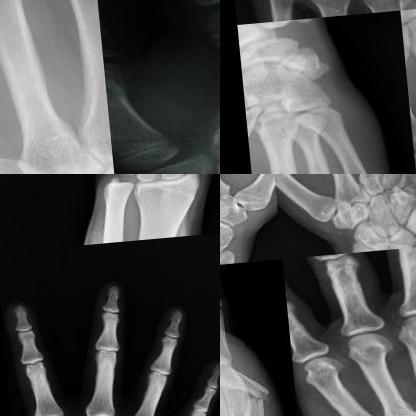fracture: (228, 377, 269, 415), (394, 174, 415, 189)
